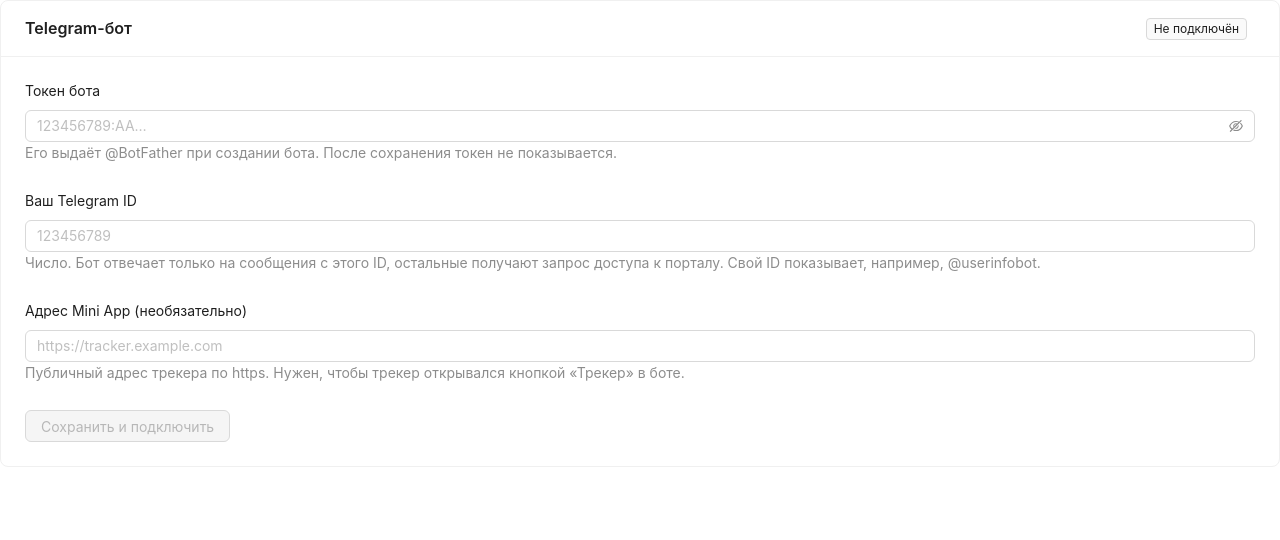
Настройки: Telegram-бот › показывает ошибку сервера, например неверный токен
Type "123456789:AAHdqTcvCH1vGWJxfSeofSAs0K5PALDsaw" into the password field labelled "Токен бота" at point(631, 126), box [37,115,1225,137]
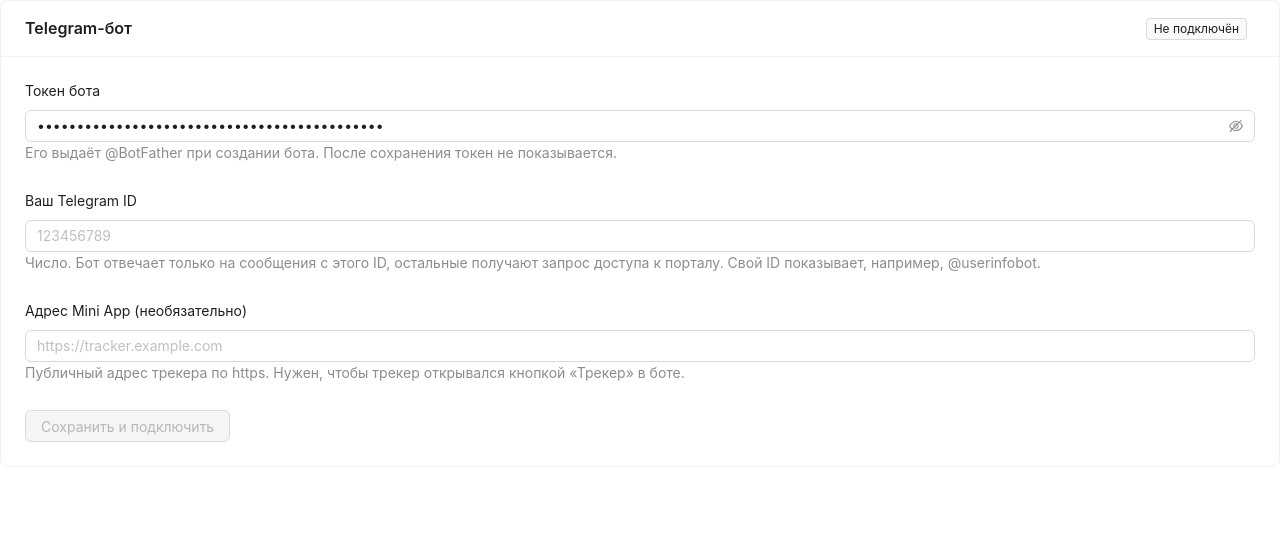
Type "42" into the field labelled "Ваш Telegram ID" at point(640, 236), box [25,220,1255,252]
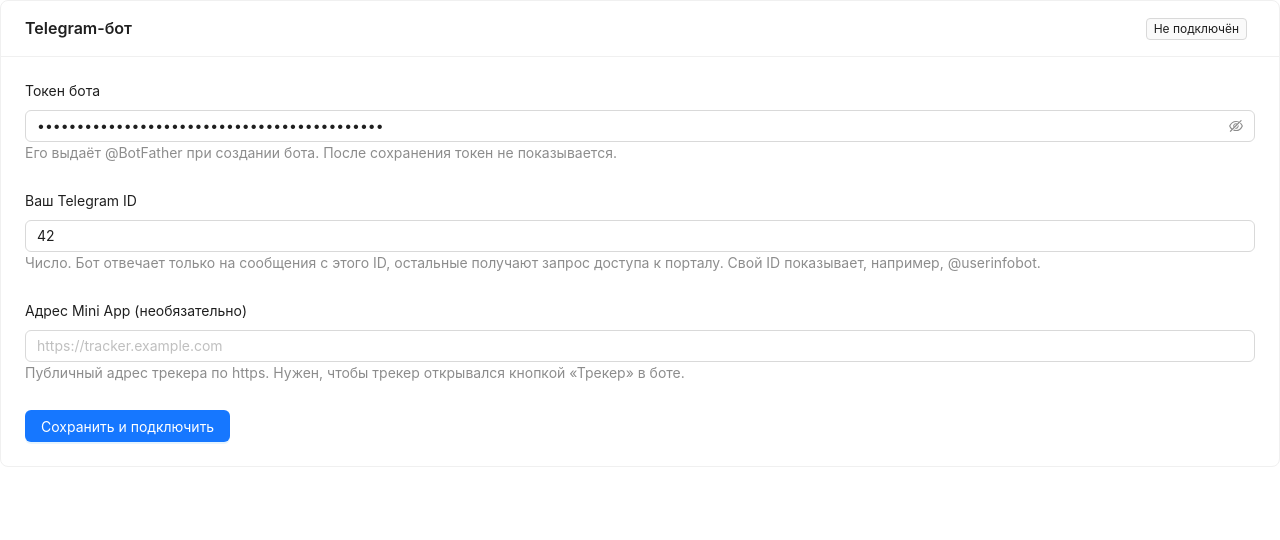
Click the button "Сохранить и подключить" at point(128, 426), box [25,410,230,442]
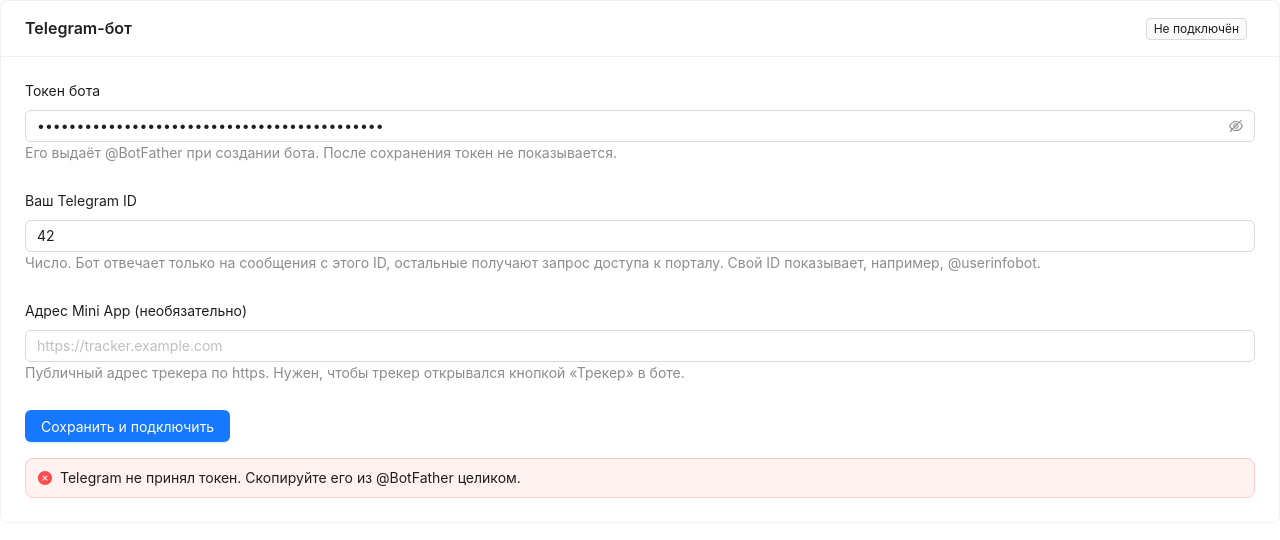
Expected: the text "Telegram не принял токен" is shown, [60,469,521,486]
